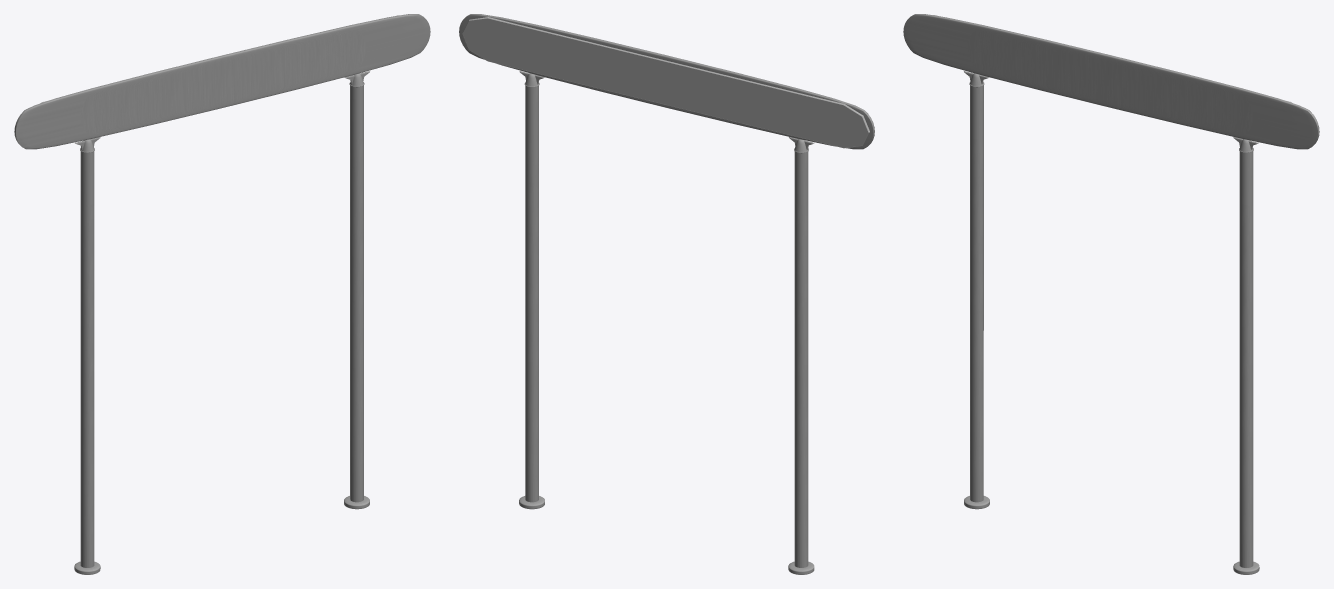
Rendered from roadSignHIGH.fbx.
3 renders of one model, left to right at view 1: azimuth 30°, elevation 25°; view 2: azimuth 150°, elevation 25°; view 3: azimuth 330°, elevation 25°, orthographic.
Visible parts, largest first — view 1: pCube61, roadSign1, roadSign; view 2: pCube66, roadSign1, roadSign, pCube61; view 3: pCube61, roadSign, roadSign1.
Boxes of the visible parts, x1,y1,x2,y2 form: pCube61: (14, 14, 430, 149); roadSign1: (80, 139, 94, 567); roadSign: (349, 73, 364, 502); pCube66: (462, 17, 869, 148); roadSign1: (794, 139, 808, 567); roadSign: (524, 73, 539, 502); pCube61: (459, 14, 874, 149); pCube61: (903, 14, 1319, 149); roadSign: (1239, 139, 1253, 567); roadSign1: (969, 73, 984, 502).
Size of the model in its own units: 2.88 by 3.19 by 0.157.
